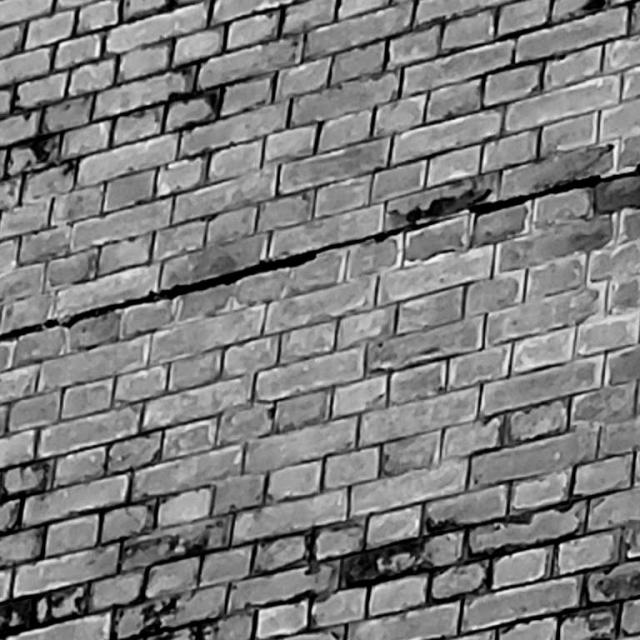crack: (1, 165, 639, 343)
